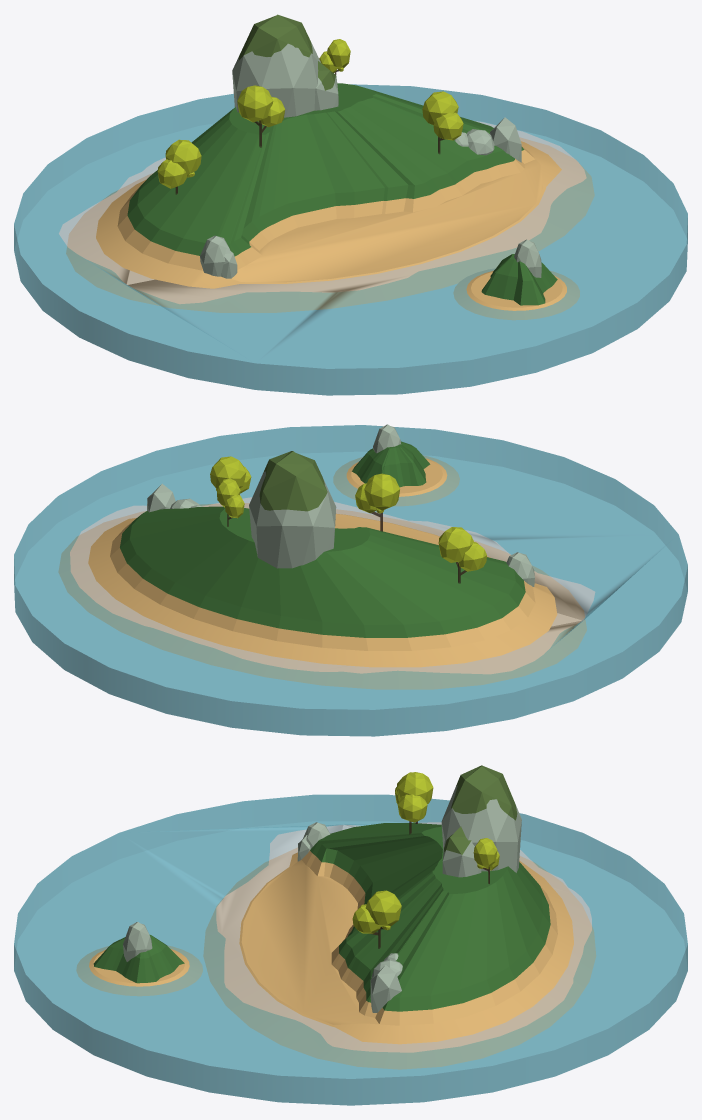
File: 1jUt3HwyHfn.glb
3 views of the same model, one above another, from view 1: azimuth 30°, elevation 25°; view 2: azimuth 150°, elevation 25°; view 3: azimuth 270°, elevation 25° (orthographic).
Visible parts, largest first — view 1: Cylinder002, Cylinder003, GeoSphere011; view 2: Cylinder002, Cylinder003, GeoSphere011; view 3: Cylinder002, Cylinder003, GeoSphere011.
Boxes of the visible parts, x1,y1,x2,y2 form: Cylinder002: [14, 84, 687, 395]; Cylinder003: [66, 14, 594, 319]; GeoSphere011: [157, 39, 463, 188]; Cylinder002: [14, 425, 687, 736]; Cylinder003: [58, 424, 586, 689]; GeoSphere011: [210, 456, 486, 571]; Cylinder002: [14, 794, 687, 1105]; Cylinder003: [76, 765, 595, 1069]; GeoSphere011: [352, 772, 499, 933].
Size of the model in its own units: 3.16 by 0.9999 by 3.17.
